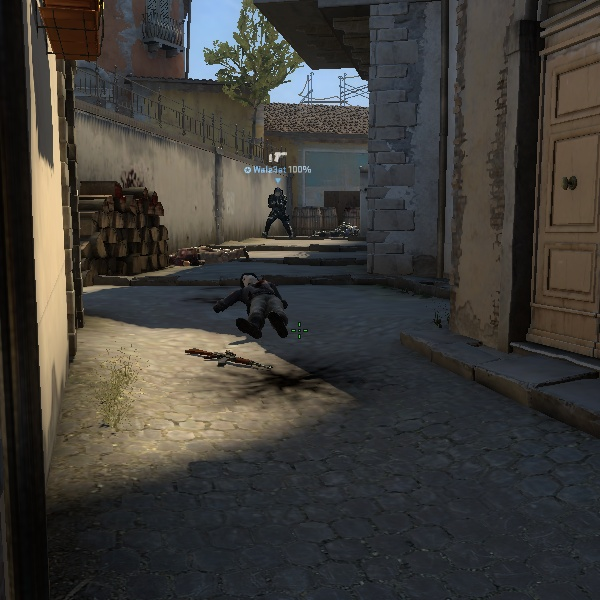ct_body: (262, 182, 293, 237)
